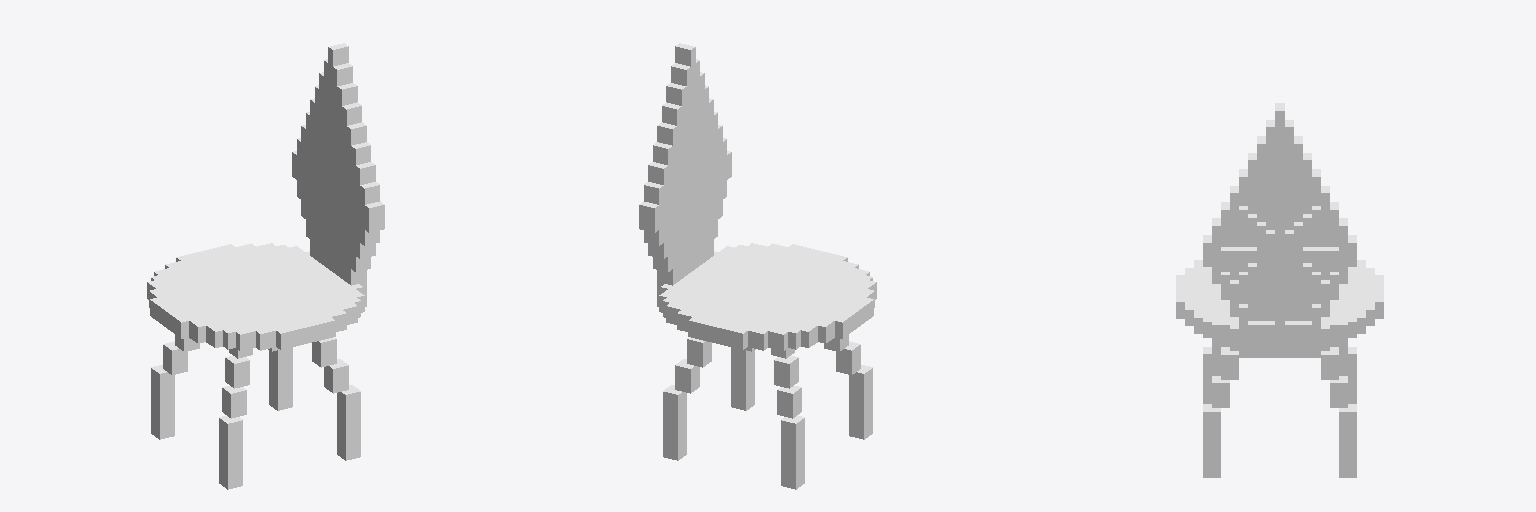
File: Chair_1.obj
3 views of the same model, side by side, from view 1: azimuth 30°, elevation 25°; view 2: azimuth 150°, elevation 25°; view 3: azimuth 270°, elevation 25° (orthographic).
Bounding box in the file's own units: 23 × 46 × 23.